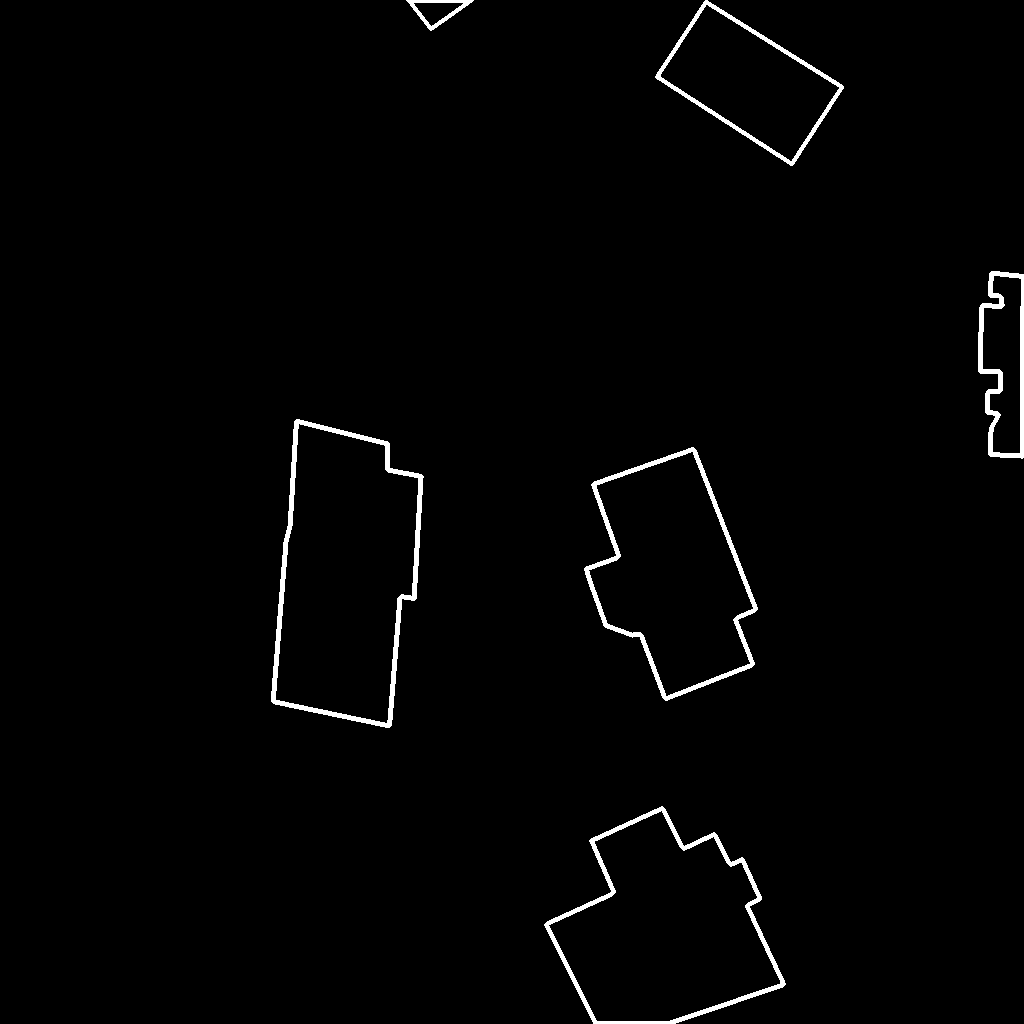building: (546, 808, 785, 1024), (273, 421, 422, 727), (586, 449, 757, 700), (657, 2, 843, 165), (980, 273, 1024, 457), (408, 0, 473, 30)
